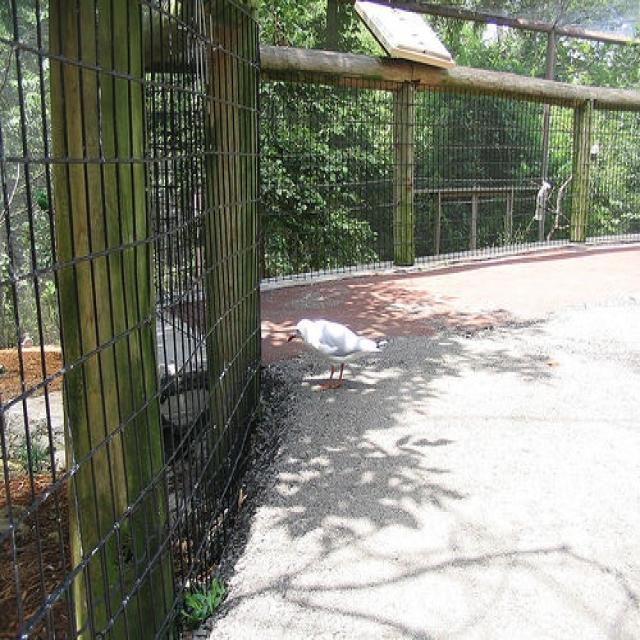bird: (285, 316, 379, 391)
